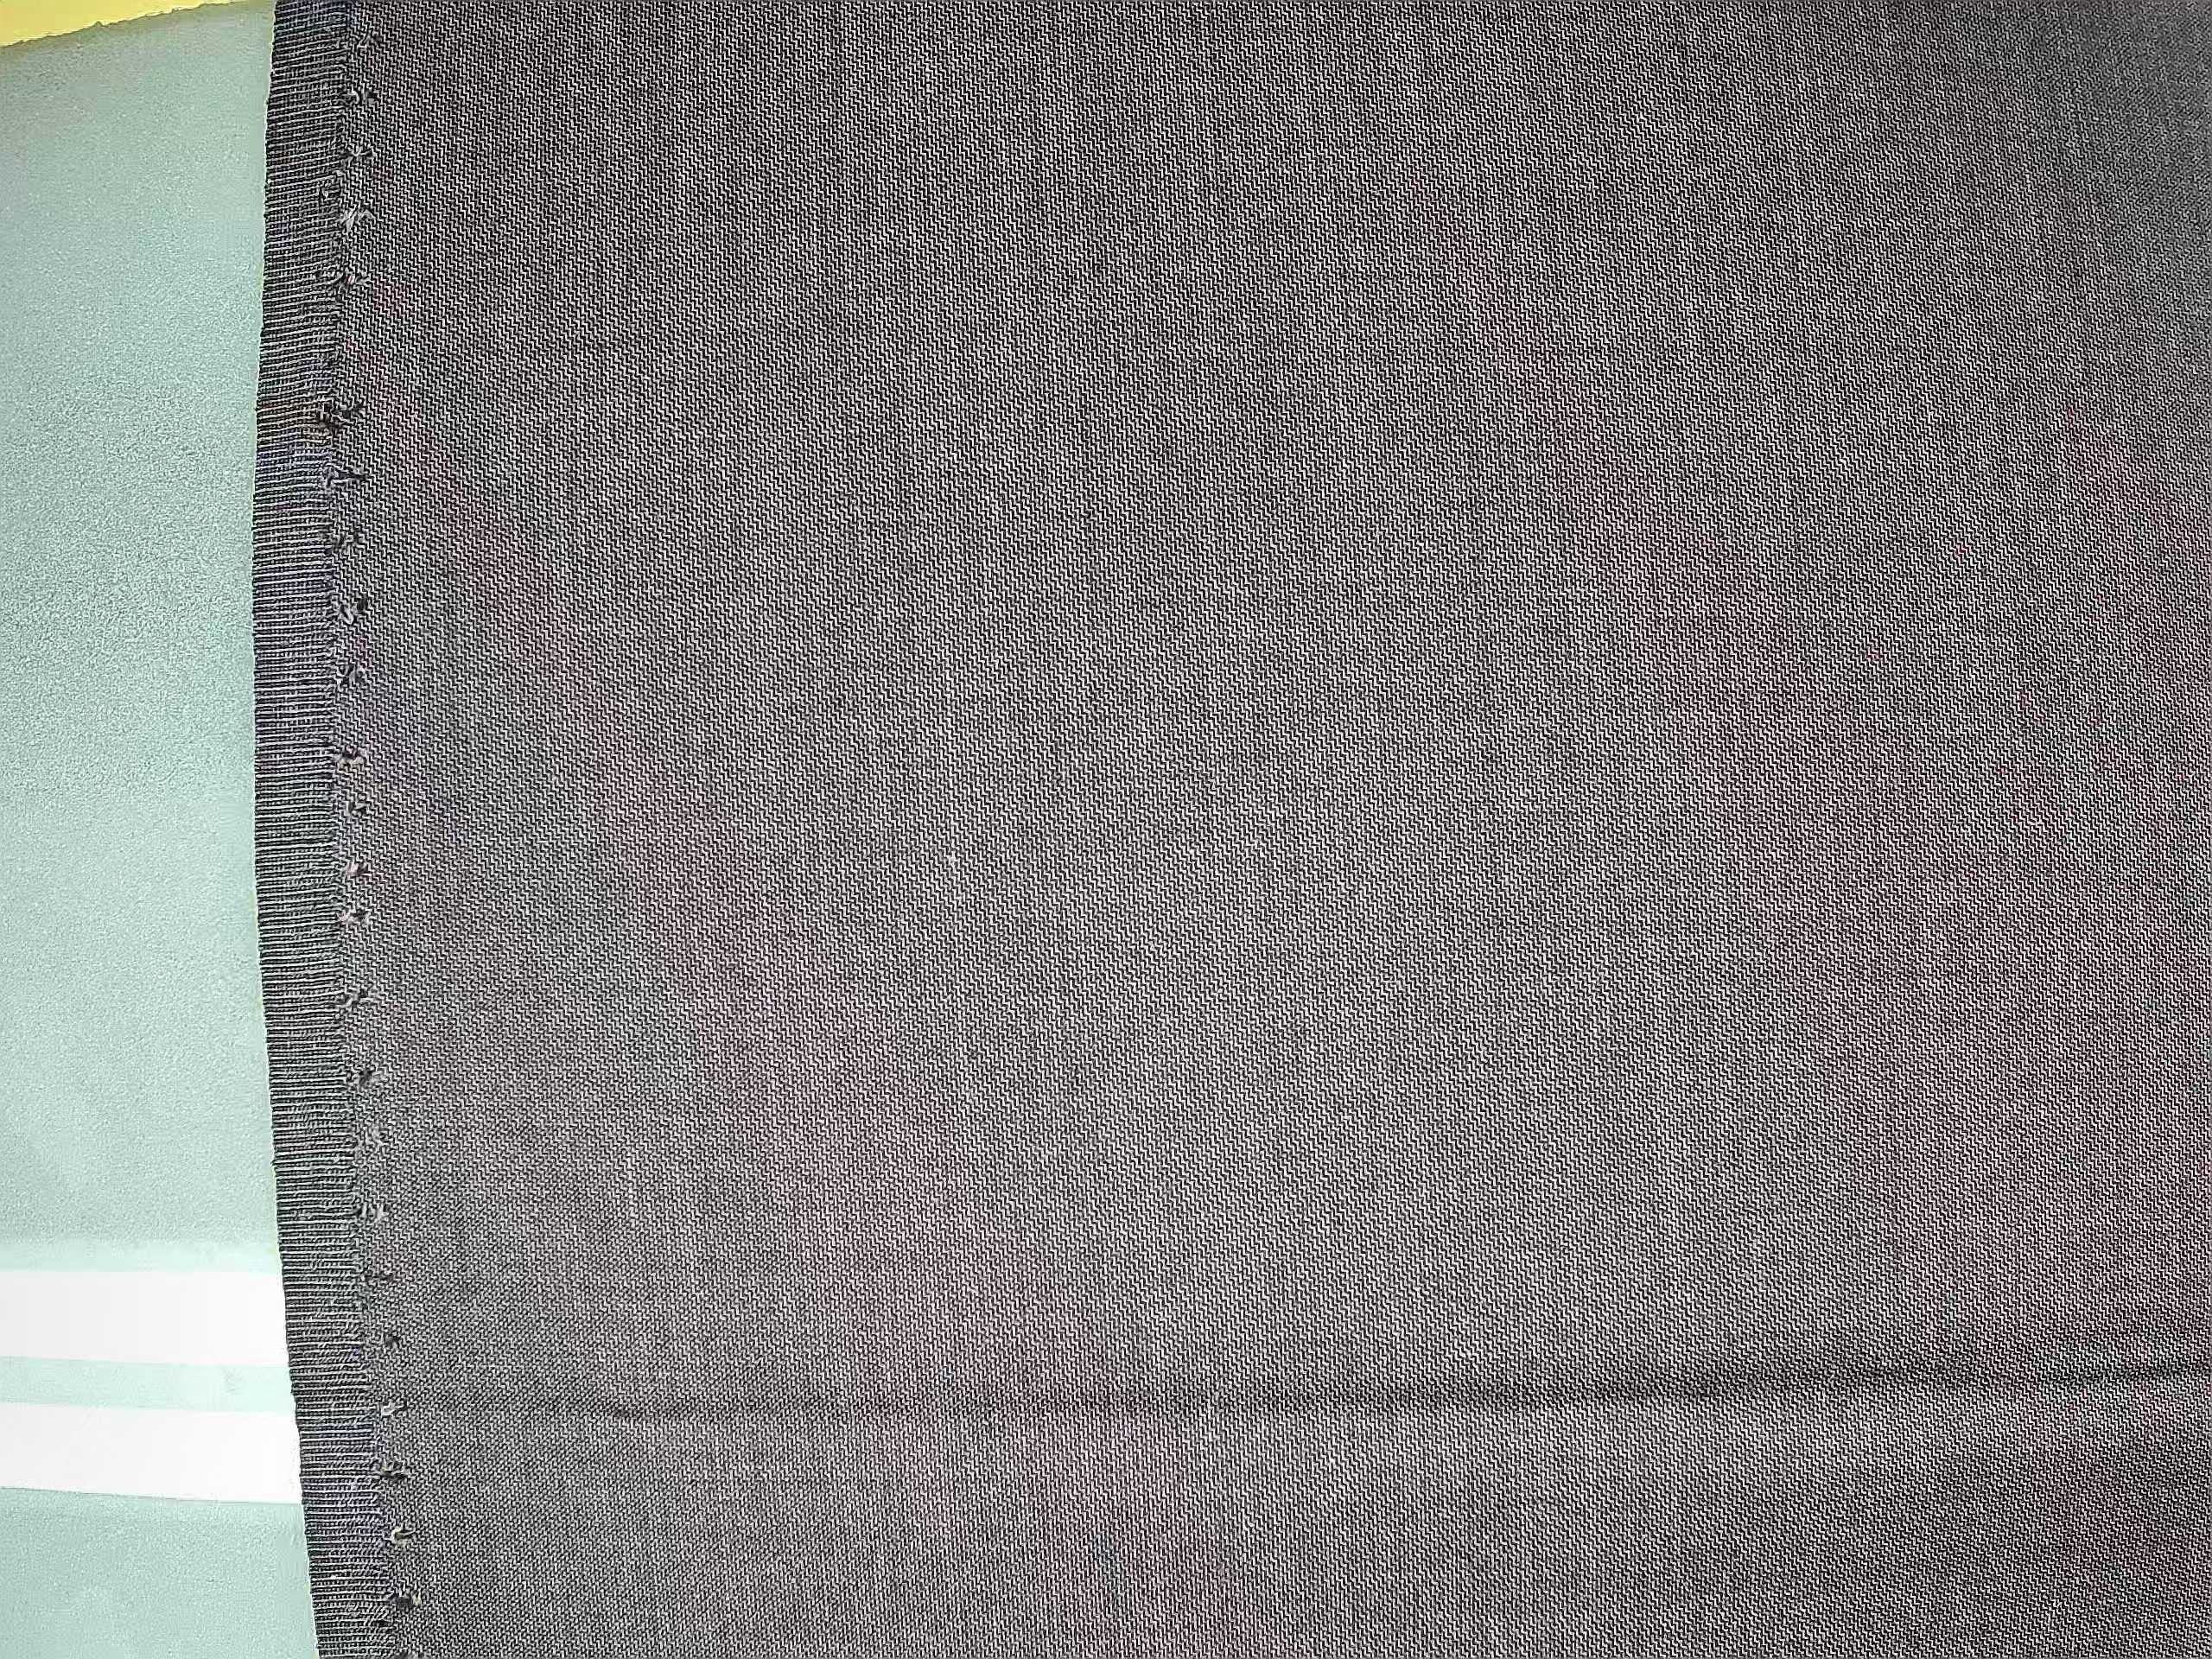puncture-hole: (315, 58, 428, 1638)
